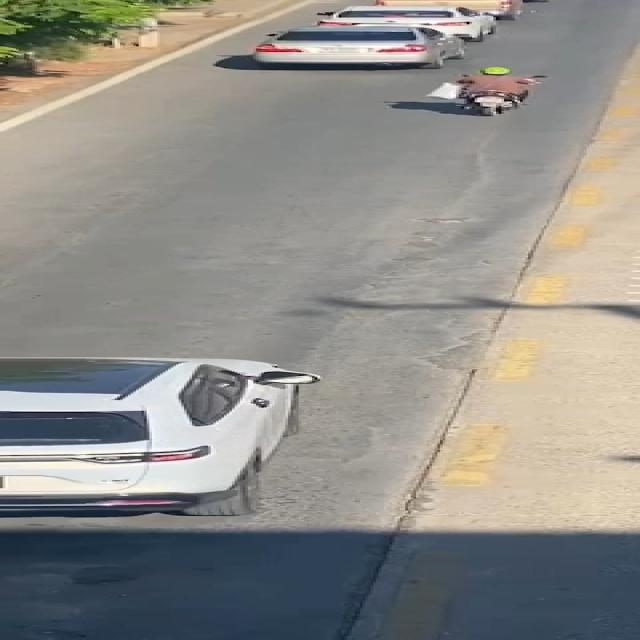car: (0, 346, 347, 546), (232, 26, 484, 70), (307, 0, 509, 43)
